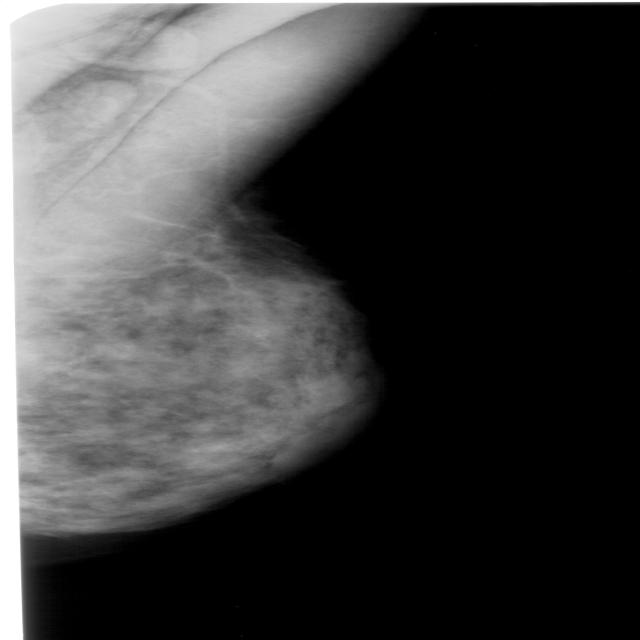normal: (0, 0, 399, 553)
